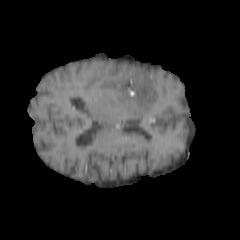glioma: (92, 70, 160, 111)
